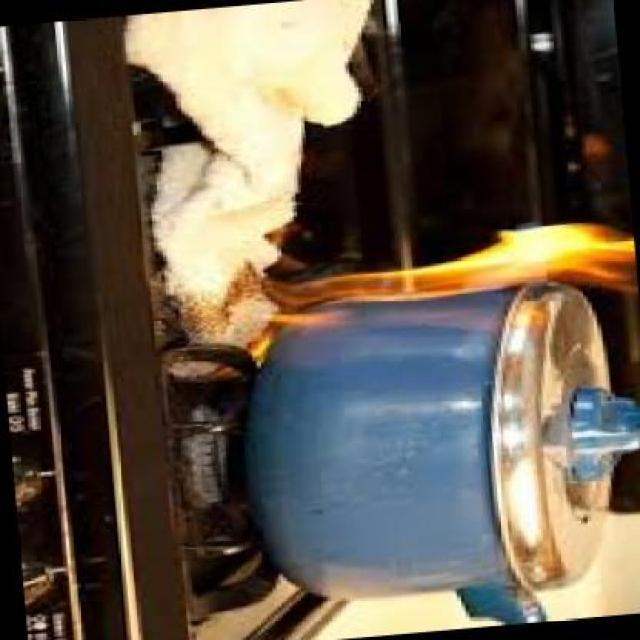Fire: (240, 208, 640, 308)
